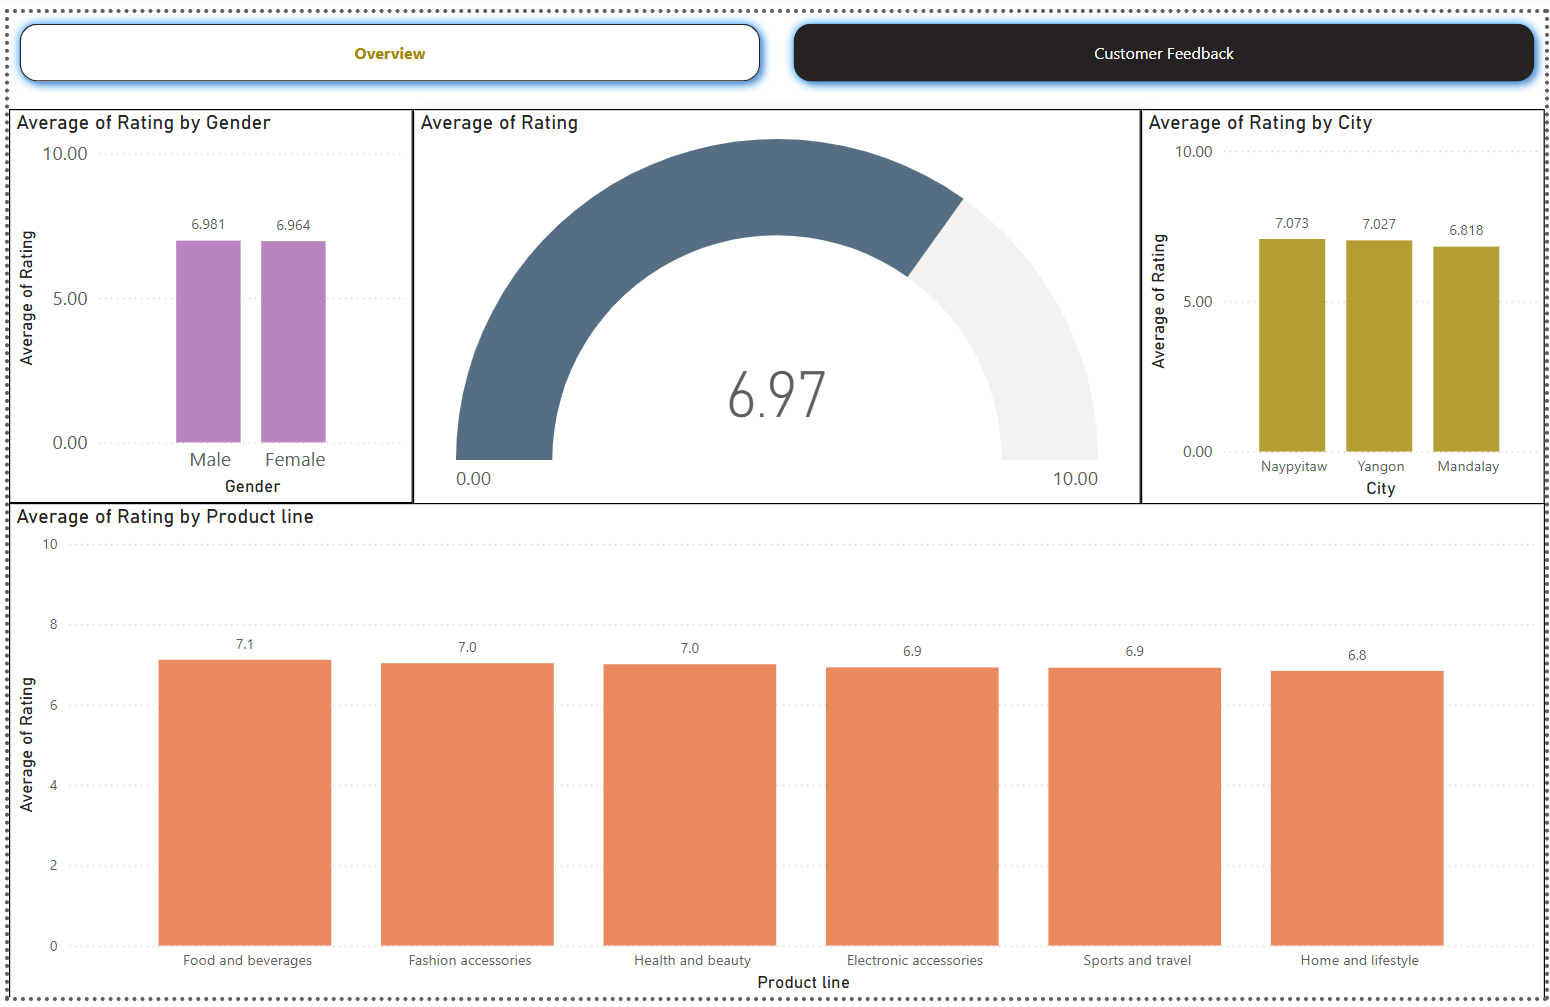

The page's visual inventory and layout, read from the dashboard file:
{"tool":"powerbi","page":{"name":"Customer Feedback","canvas":[1280,820],"ordinal":1},"visuals":[{"type":"gauge","fields":{"Y":["Avg(supermarket_sales+-+Sheet1.Rating)"]},"box":[336.7,80,606.7,330],"z":0},{"type":"clusteredColumnChart","fields":{"Category":["supermarket_sales+-+Sheet1.Gender"],"Y":["Avg(supermarket_sales+-+Sheet1.Rating)"]},"box":[0,80,336.7,328.3],"z":1000},{"type":"columnChart","fields":{"Category":["supermarket_sales+-+Sheet1.City"],"Y":["Avg(supermarket_sales+-+Sheet1.Rating)"]},"box":[943.3,80,336.7,330],"z":2000},{"type":"clusteredColumnChart","fields":{"Y":["Avg(supermarket_sales+-+Sheet1.Rating)"],"Category":["supermarket_sales+-+Sheet1.Product line"]},"box":[0,408.3,1280,413.3],"z":3000},{"type":"pageNavigator","box":[0,0,1280,66.7],"z":3001}]}

Visuals, with their boxes in screenshot pixels (x1, y1, x2, y2), scaled from the page's 1280x820 canvas onto the 1550x1007 screenshot:
gauge - Avg(supermarket_sales+-+Sheet1.Rating): box(408, 98, 1142, 504)
clusteredColumnChart - supermarket_sales+-+Sheet1.Gender x Avg(supermarket_sales+-+Sheet1.Rating): box(0, 98, 408, 501)
columnChart - supermarket_sales+-+Sheet1.City x Avg(supermarket_sales+-+Sheet1.Rating): box(1142, 98, 1549, 504)
clusteredColumnChart - Avg(supermarket_sales+-+Sheet1.Rating) x supermarket_sales+-+Sheet1.Product line: box(0, 501, 1549, 1006)
pageNavigator: box(0, 0, 1549, 82)
